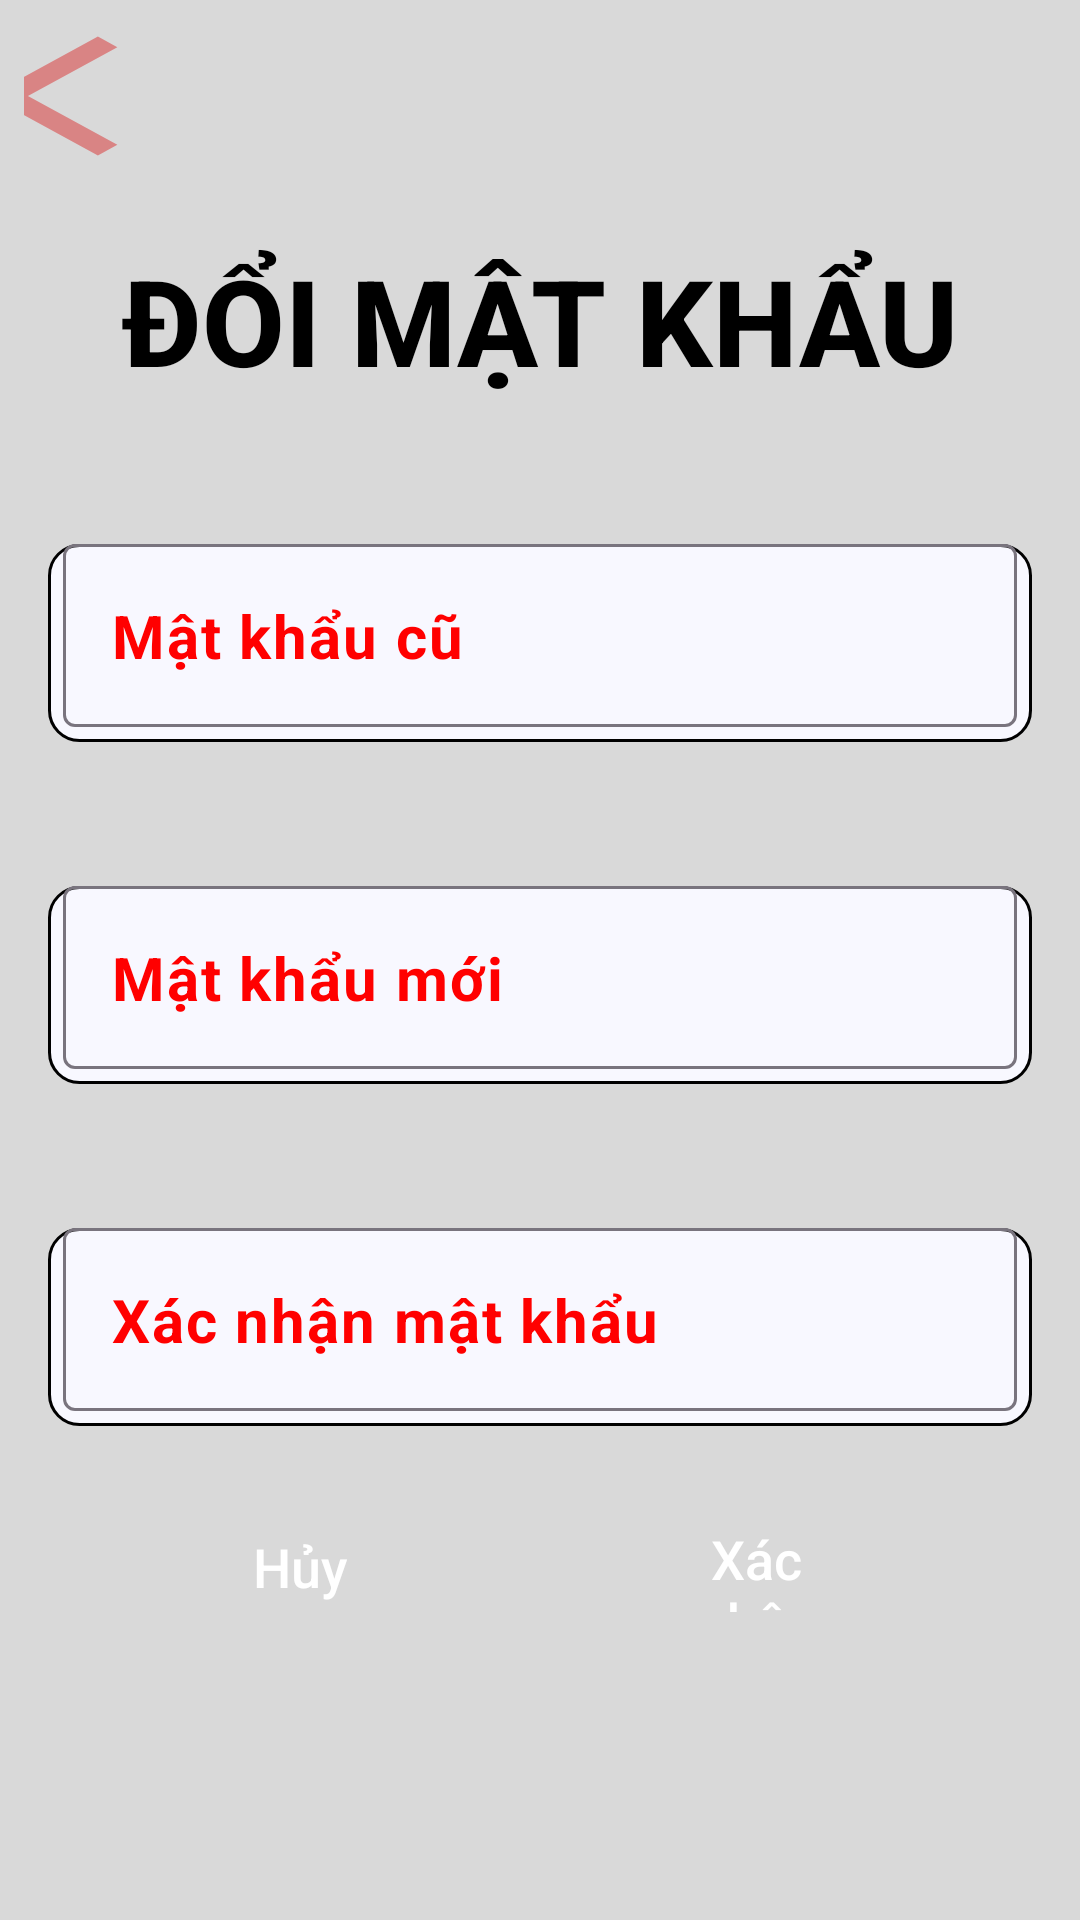

Named icons in this screenshot (1080px×1920px) and their centers, (x,y):
back: (70,96)
